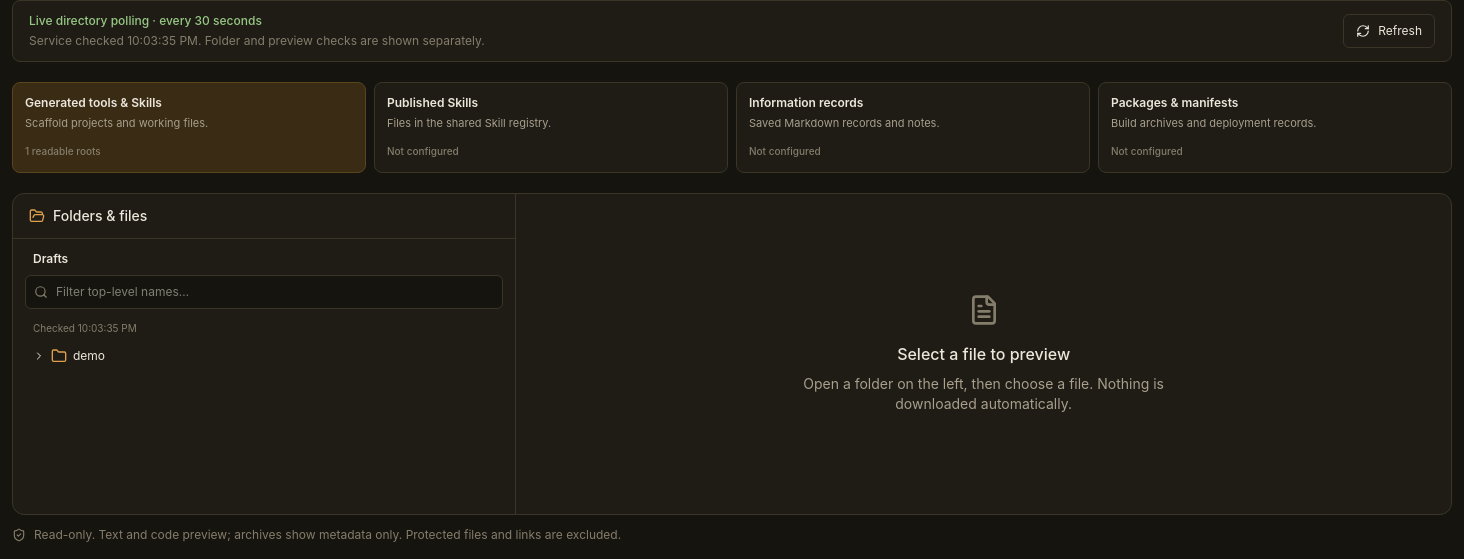
Test case: Files live browser › clears the selected file when switching sources
Step 1. Click the button "demo" → (89, 356), box [25,340,503,372]
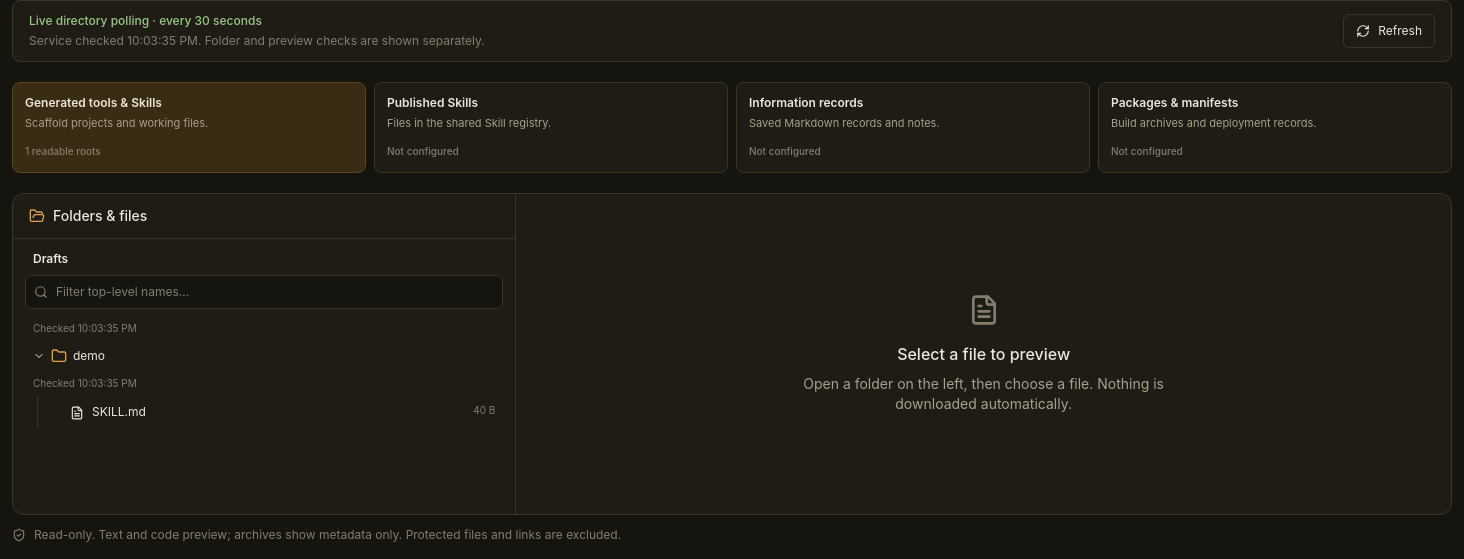
Step 2. Click the button "SKILL.md 40 B" → (119, 411), box [46,396,503,428]
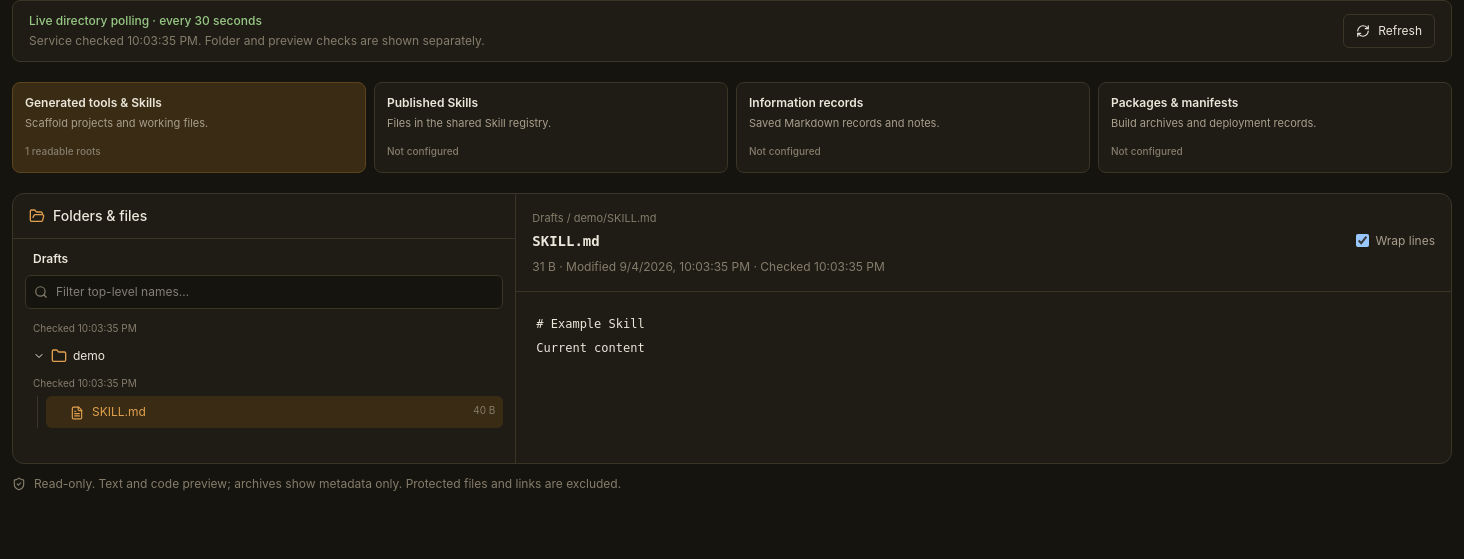
Now the element named "File content" is shown, box [536,317,645,355]
Step 3. Click the button "Published Skills" → (551, 127), box [374,82,728,172]
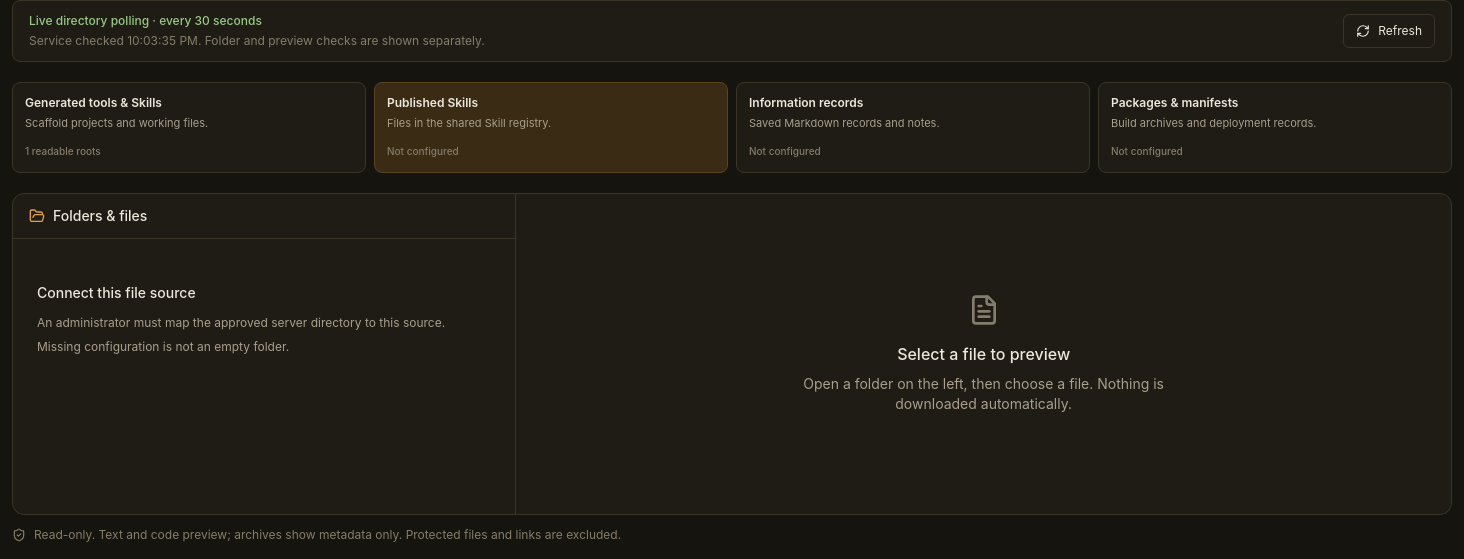
Now the heading "Select a file to preview" is shown, box [897,344,1070,364]
